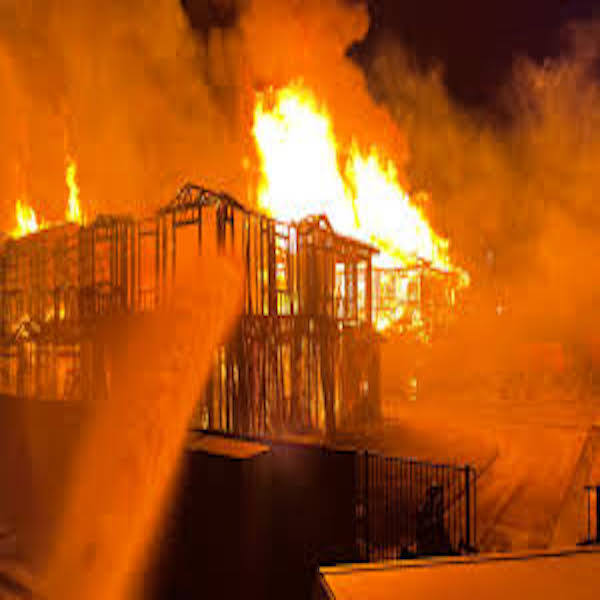fire: (246, 66, 461, 252), (11, 151, 85, 228), (340, 265, 425, 328)
